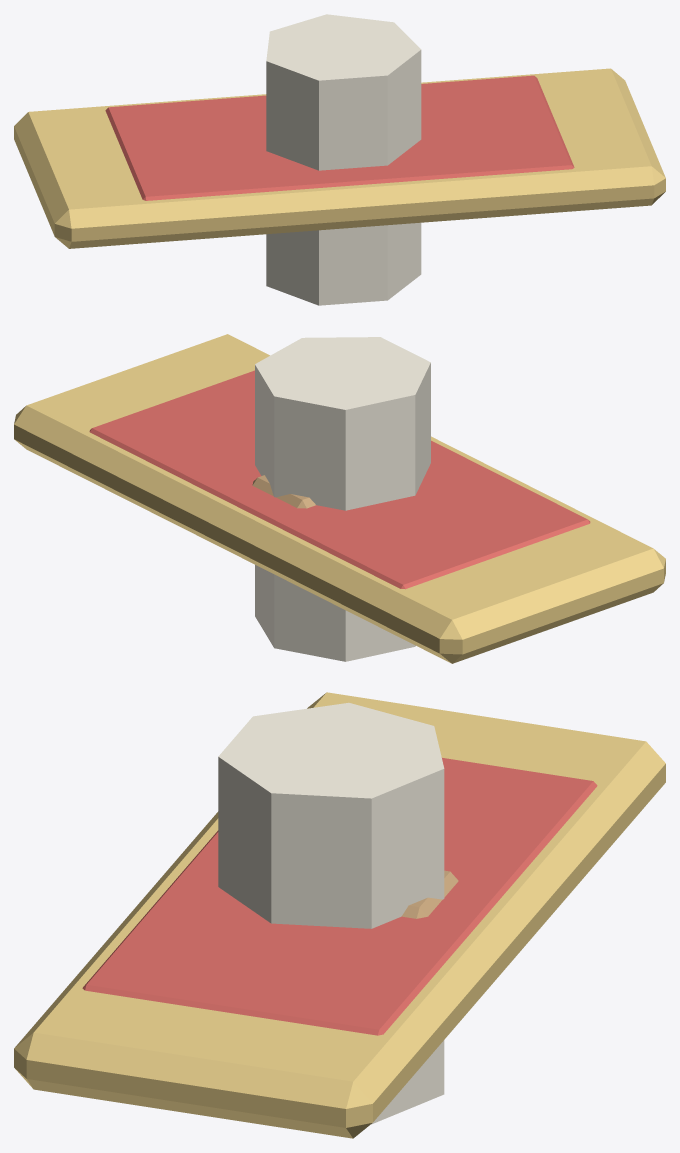
Rendered from town_bedroll.glb.
3 renders of one model, top to bottom at view 1: azimuth 30°, elevation 25°; view 2: azimuth 150°, elevation 25°; view 3: azimuth 270°, elevation 25°, orthographic. The views are drawn at different scales.
Visible parts, largest first — view 1: world; view 2: world; view 3: world.
Part boxes in pixels (x1,y1,x2,y2): world: (14,14,665,305); world: (14,334,665,663); world: (14,692,665,1138).
Bounding box in the file's own units: 2 × 0.7483 × 1.36.
